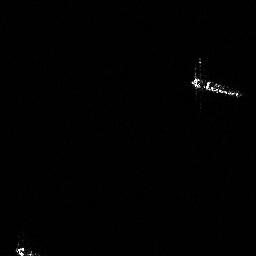ship: (189, 57, 244, 101)
